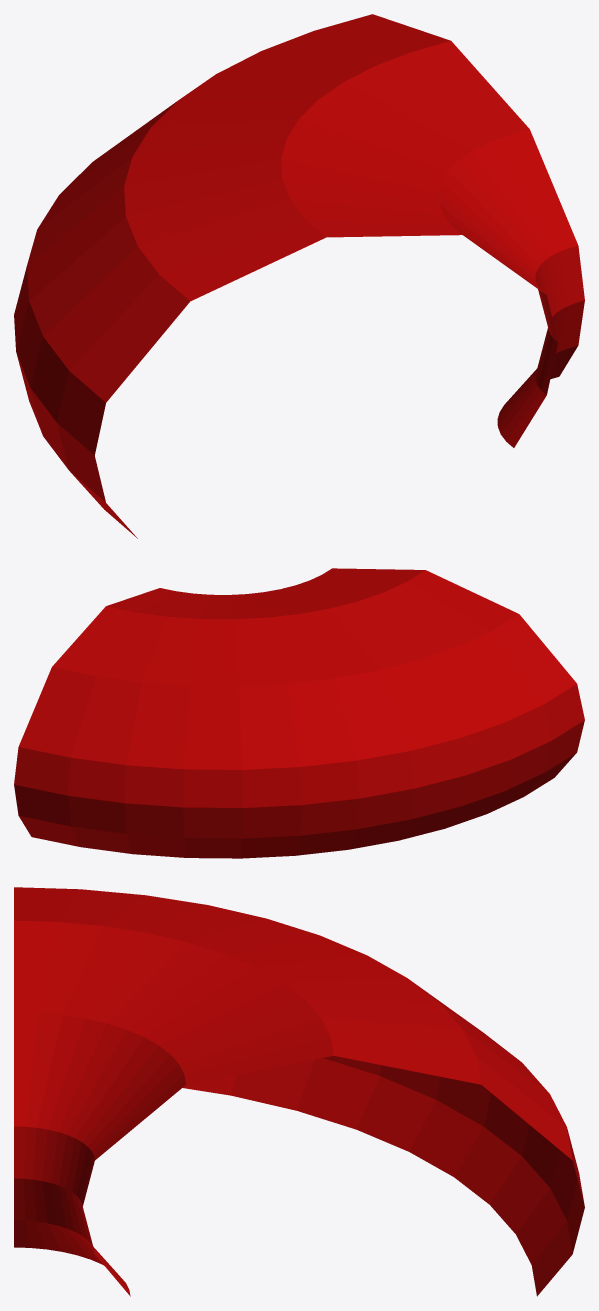
Rendered from c_tunnel_corner_w.fbx.
3 renders of one model, top to bottom at view 1: azimuth 30°, elevation 25°; view 2: azimuth 150°, elevation 25°; view 3: azimuth 270°, elevation 25°, orthographic. The views are drawn at different scales.
Visible parts, largest first — view 1: coll_tunnel_corner_w; view 2: coll_tunnel_corner_w; view 3: coll_tunnel_corner_w.
Boxes of the visible parts, x1,y1,x2,y2 form: coll_tunnel_corner_w: [14, 14, 584, 538]; coll_tunnel_corner_w: [14, 568, 584, 858]; coll_tunnel_corner_w: [14, 887, 584, 1296].
Size of the model in its own units: 2728 by 1270 by 2728.
